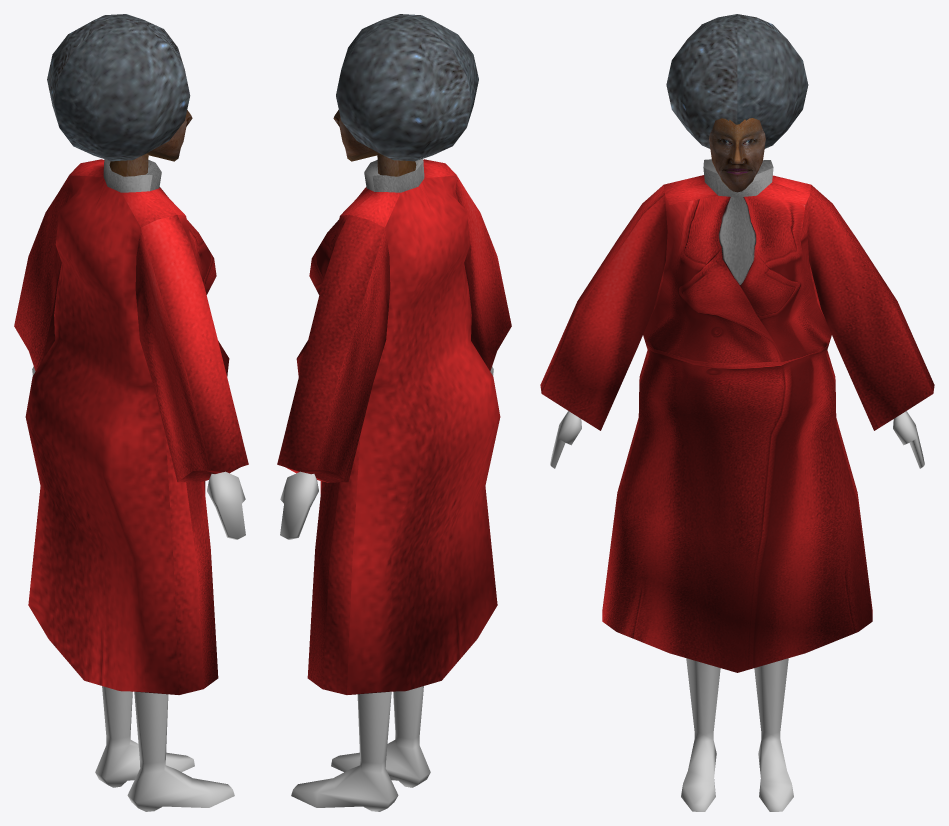
The model's file is Beatrice.fbx.
The picture shows the model from 3 angles, left to right: view 1: azimuth 30°, elevation 25°; view 2: azimuth 150°, elevation 25°; view 3: azimuth 270°, elevation 25°; orthographic projection. The views are drawn at different scales.
Visible parts, largest first — view 1: beatriceModel; view 2: beatriceModel; view 3: beatriceModel.
Boxes of the visible parts, x1,y1,x2,y2 form: beatriceModel: (14,14,248,811); beatriceModel: (277,14,511,811); beatriceModel: (540,14,934,811).
Bounding box in the file's own units: 126 × 598 × 286.
